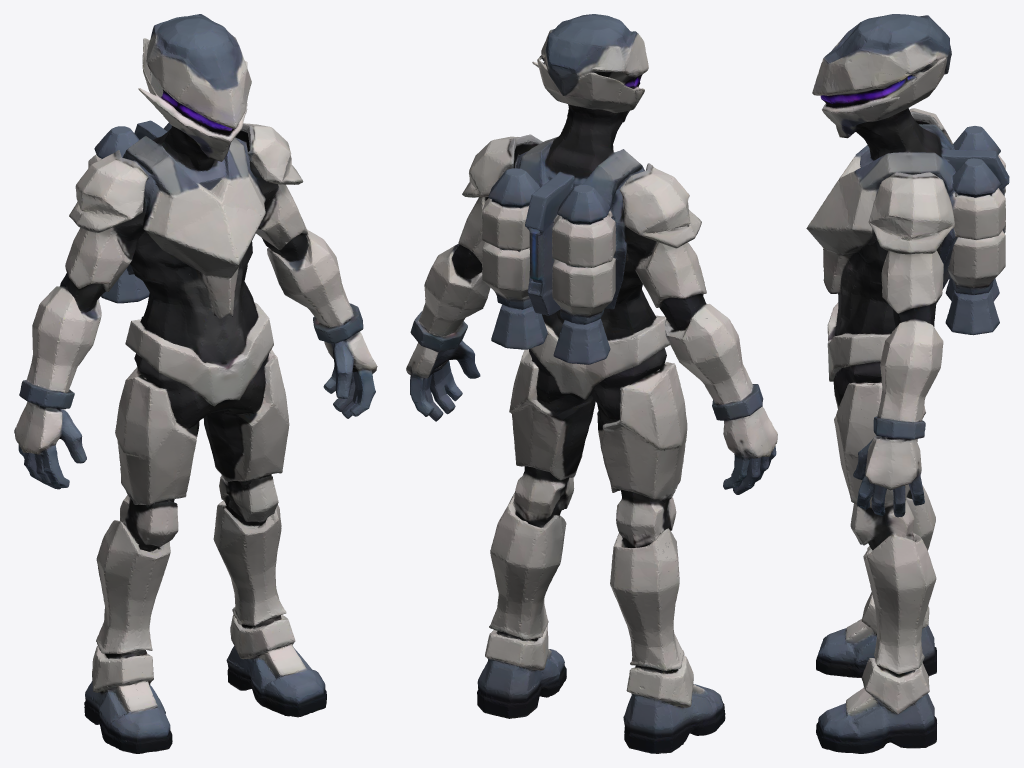
File: tactician-hq-s101.glb
3 renders of one model, left to right at view 1: azimuth 30°, elevation 25°; view 2: azimuth 150°, elevation 25°; view 3: azimuth 270°, elevation 25°, orthographic. The views are drawn at different scales.
Visible parts, largest first — view 1: geometry_0; view 2: geometry_0; view 3: geometry_0.
Boxes of the visible parts, x1=… form: geometry_0: x1=14, y1=14, x2=377, y2=753; geometry_0: x1=406, y1=14, x2=777, y2=753; geometry_0: x1=806, y1=14, x2=1009, y2=753.
Size of the model in its own units: 0.2676 by 0.5 by 0.1349.
Materials: 1 (1 with a texture image).
